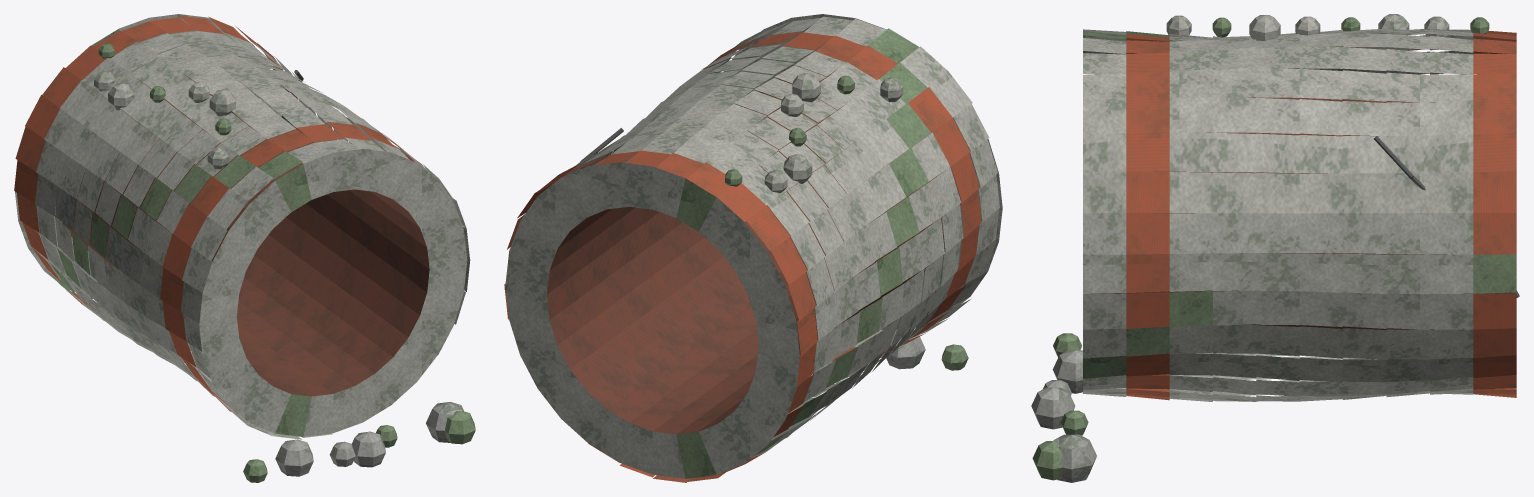
Rendered from broken_drainage_culvert.glb.
The picture shows the model from 3 angles, left to right: view 1: azimuth 30°, elevation 25°; view 2: azimuth 150°, elevation 25°; view 3: azimuth 270°, elevation 25°; orthographic projection. The views are drawn at different scales.
Visible parts, largest first — view 1: AshfallDecorativeProp; view 2: AshfallDecorativeProp; view 3: AshfallDecorativeProp.
Boxes of the visible parts, x1=… form: AshfallDecorativeProp: x1=14, y1=14, x2=475, y2=482; AshfallDecorativeProp: x1=504, y1=14, x2=1002, y2=482; AshfallDecorativeProp: x1=1031, y1=14, x2=1519, y2=482.
Size of the model in its own units: 1.83 by 2.07 by 2.39.
Materials: 6 (6 with a texture image).
